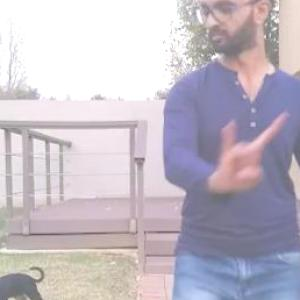takeoff-hand: (208, 105, 295, 200)
